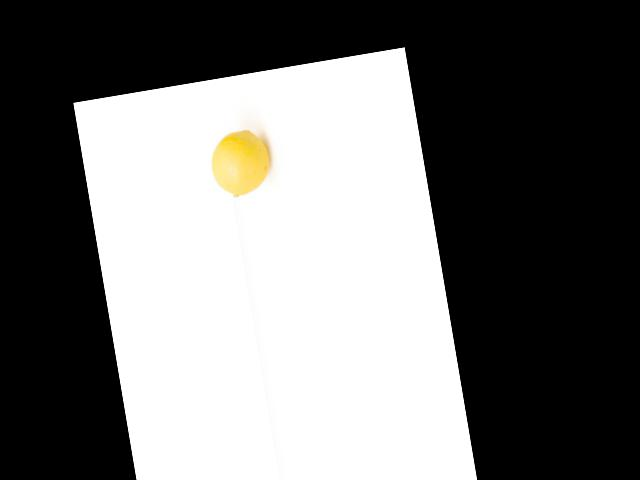lemon: (203, 119, 278, 201)
